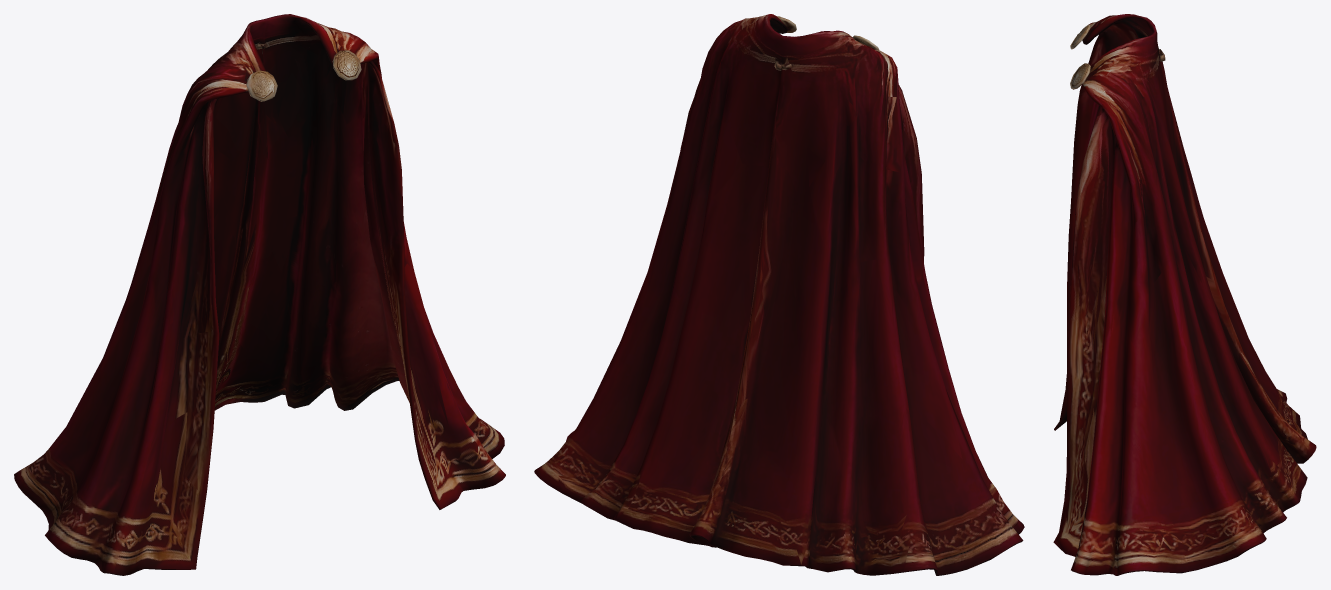
Rendered from yarbay_pelerin.fbx.
The picture shows the model from 3 angles, left to right: view 1: azimuth 30°, elevation 25°; view 2: azimuth 150°, elevation 25°; view 3: azimuth 270°, elevation 25°; orthographic projection. The views are drawn at different scales.
Parts seen in each view (by area): view 1: tripo_node_4bb85252; view 2: tripo_node_4bb85252; view 3: tripo_node_4bb85252.
Part boxes in pixels (x1=…): tripo_node_4bb85252: x1=14, y1=14, x2=505, y2=575; tripo_node_4bb85252: x1=534, y1=14, x2=1024, y2=575; tripo_node_4bb85252: x1=1053, y1=14, x2=1316, y2=575.
Size of the model in its own units: 0.9662 by 1 by 0.5177.
Materials: 1 (1 with a texture image).
